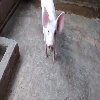heo: (38, 5, 64, 61)
